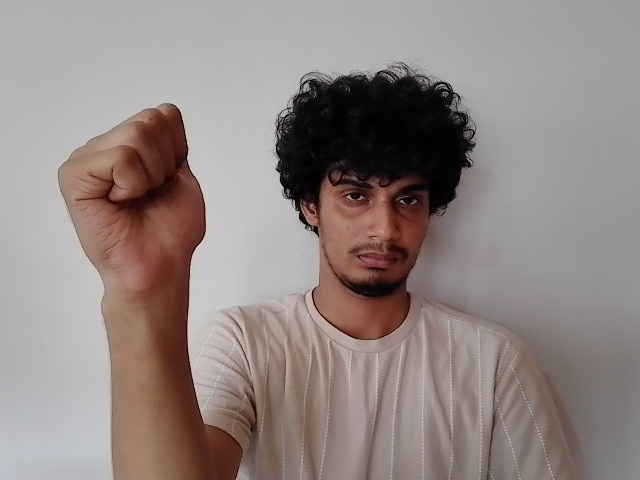how: (57, 103, 211, 272)
